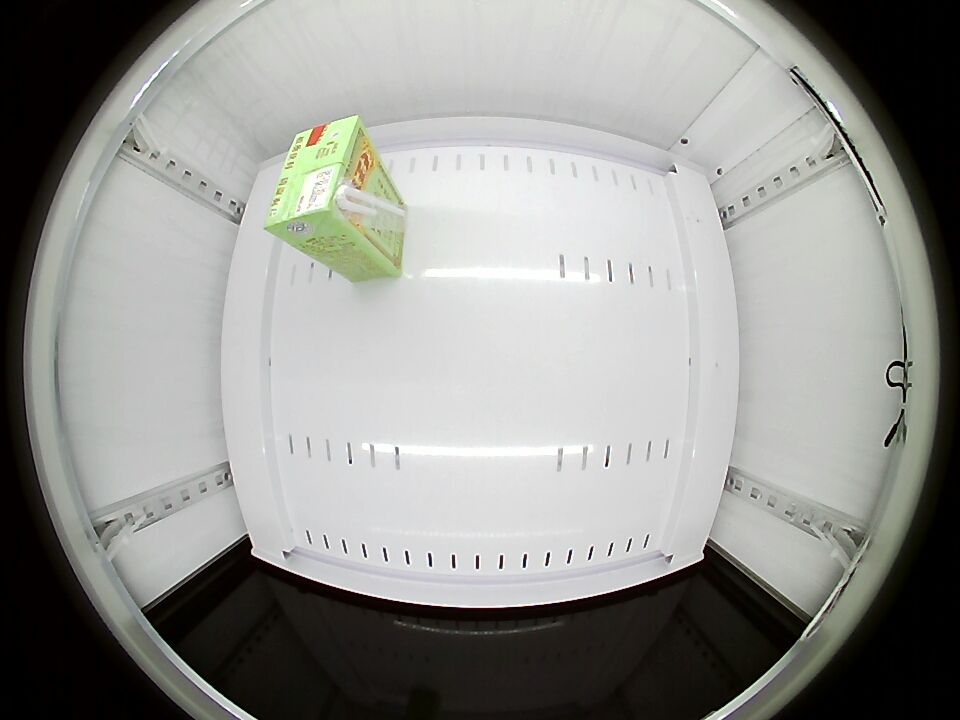wanglaoji: (264, 114, 373, 247)
